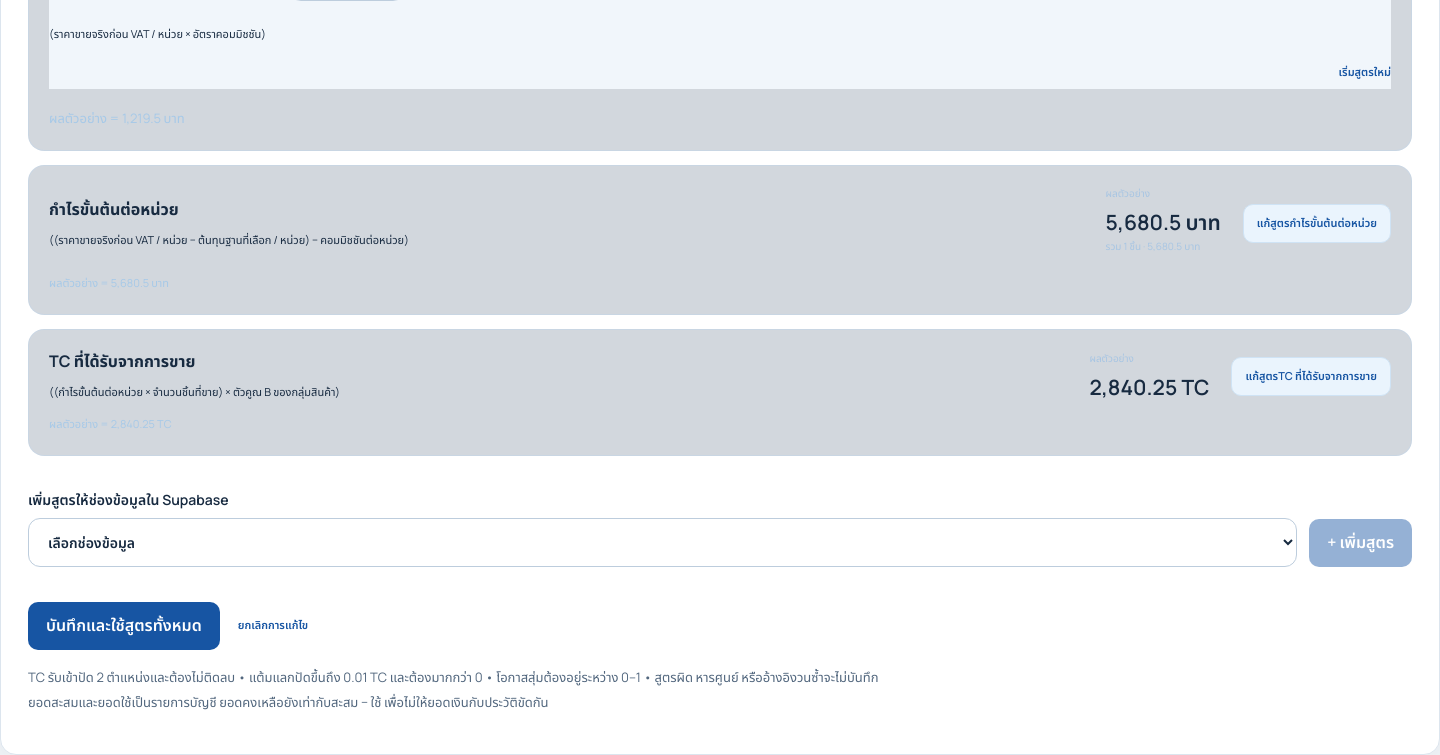
new column formulas are selected from database columns with Thai labels
(page scrolled)
Select "กำไร EPC / หน่วย" in the dropdown named "เลือกช่องข้อมูลที่ต้องการตั้งสูตร": point(663, 542) x1=28 y1=518 x2=1297 y2=567
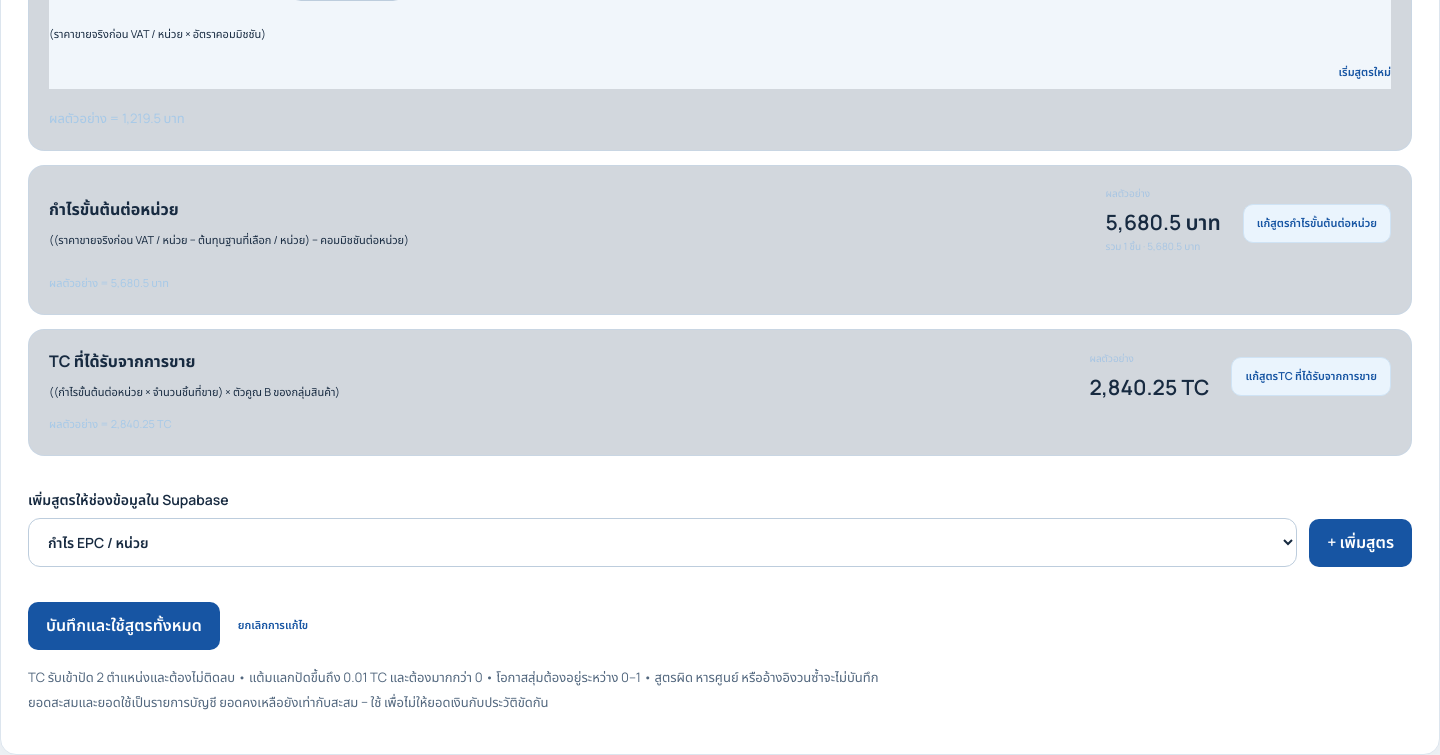
Click the button "+ เพิ่มสูตร": point(1361, 543) x1=1309 y1=519 x2=1412 y2=567
(page scrolled)
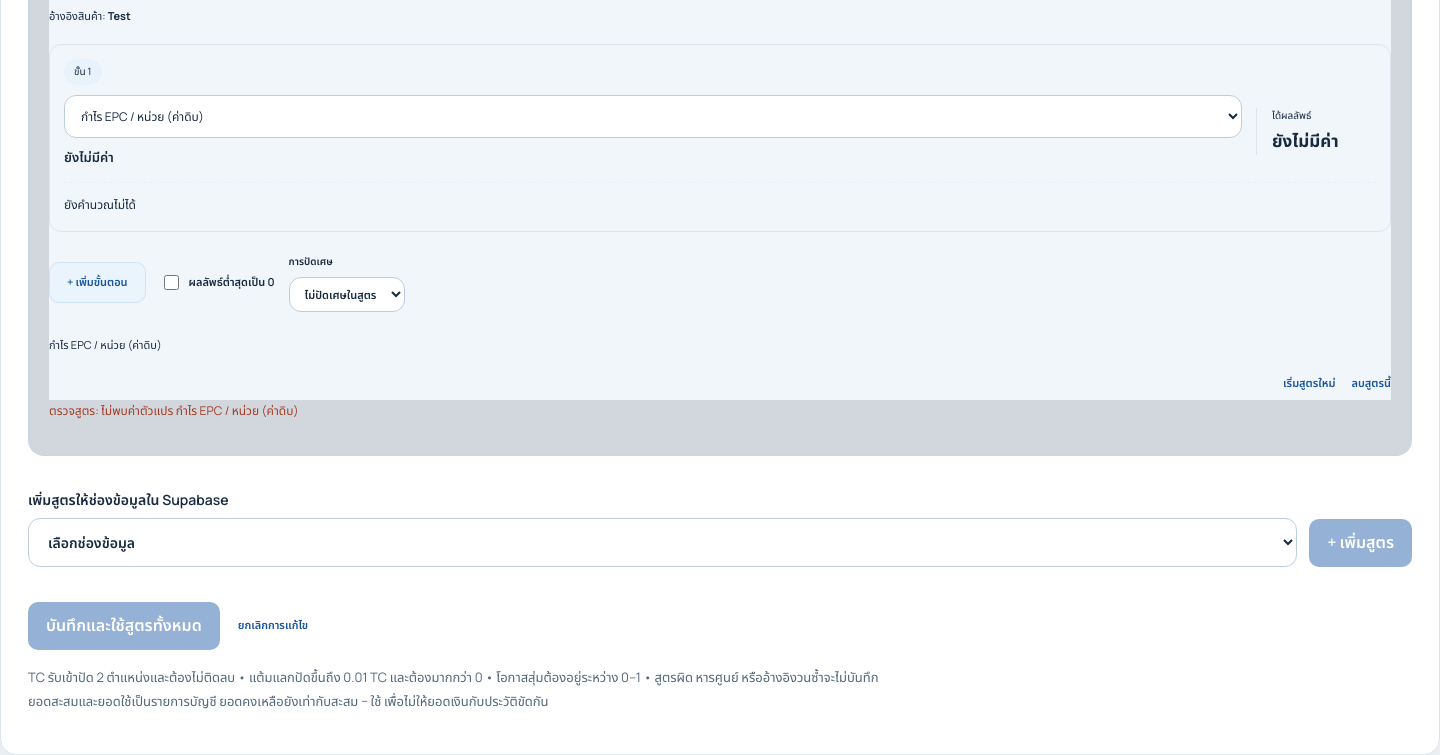
Expected: the dropdown with test id "node-epc_profit-root-source" shows "กำไร EPC / หน่วย (ค่าดิบ)", x1=64 y1=95 x2=1242 y2=138
